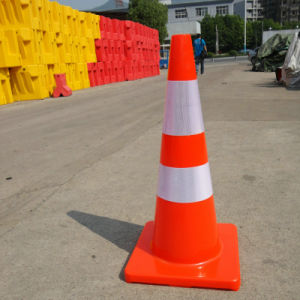cone: (124, 33, 242, 291)
